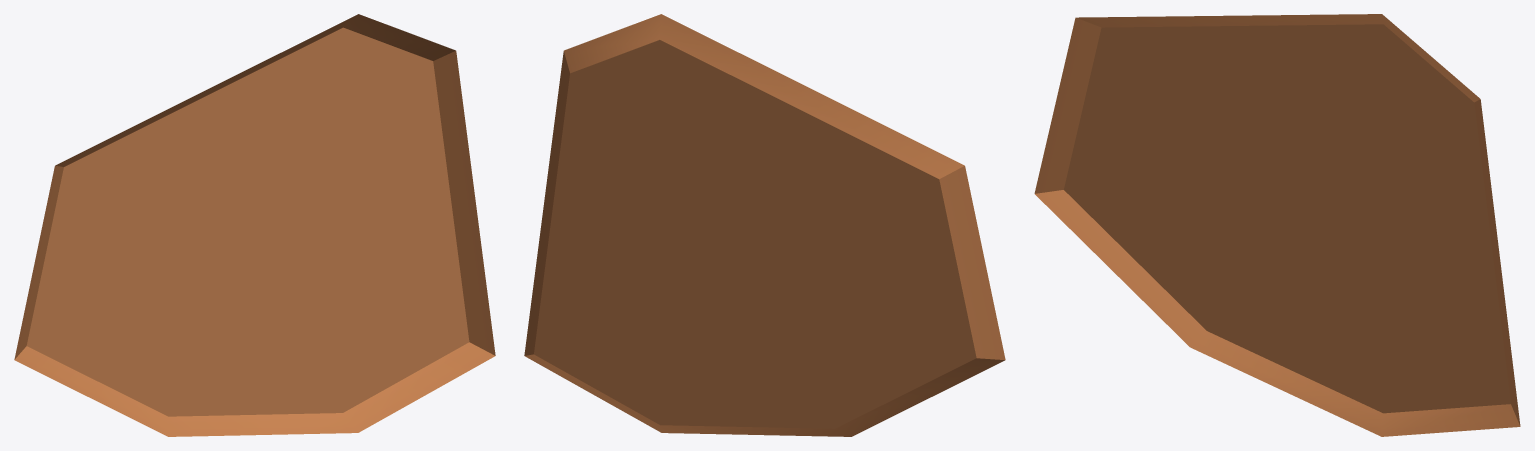
The model's file is Tiles 01.FBX.
3 views of the same model, side by side, from view 1: azimuth 30°, elevation 25°; view 2: azimuth 150°, elevation 25°; view 3: azimuth 330°, elevation 25° (orthographic).
Visible parts, largest first — view 1: Tiles 01; view 2: Tiles 01; view 3: Tiles 01.
Part boxes in pixels (bbox=[...]): Tiles 01: bbox=[14, 14, 495, 436]; Tiles 01: bbox=[524, 14, 1005, 436]; Tiles 01: bbox=[1034, 14, 1520, 436].
Bounding box in the file's own units: 171 × 143 × 5.15.
Materials: 1 (1 with a texture image).
